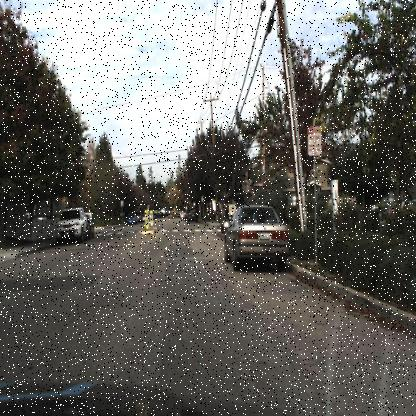car: (222, 202, 290, 272), (52, 205, 89, 245), (85, 210, 98, 244), (186, 206, 200, 226), (121, 210, 137, 226)
